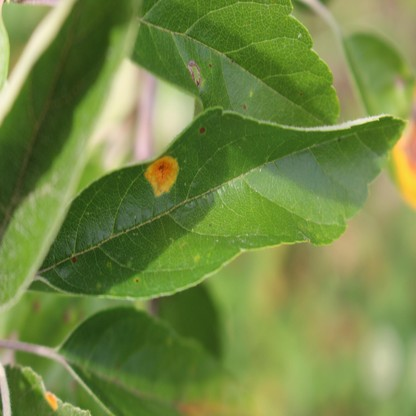frogeye_leaf_spot: (188, 61, 200, 87), (199, 127, 205, 133), (243, 104, 246, 110), (209, 64, 212, 67)
rust: (146, 155, 178, 194), (44, 389, 58, 415)
